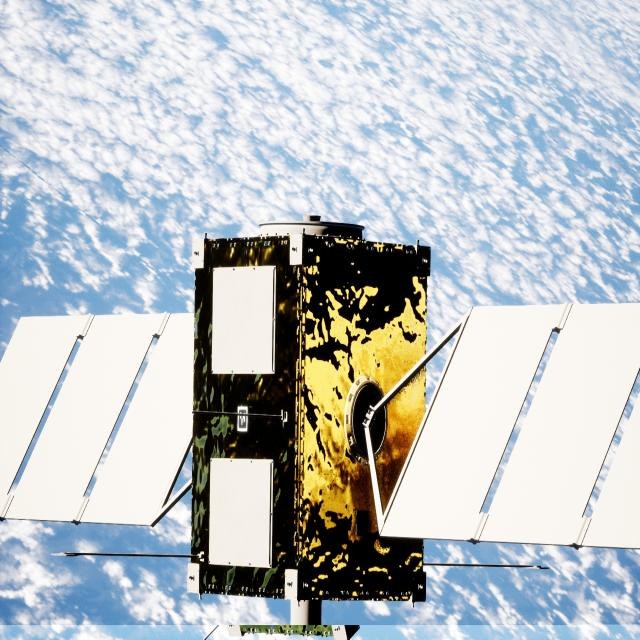satellite: (0, 220, 640, 605)
